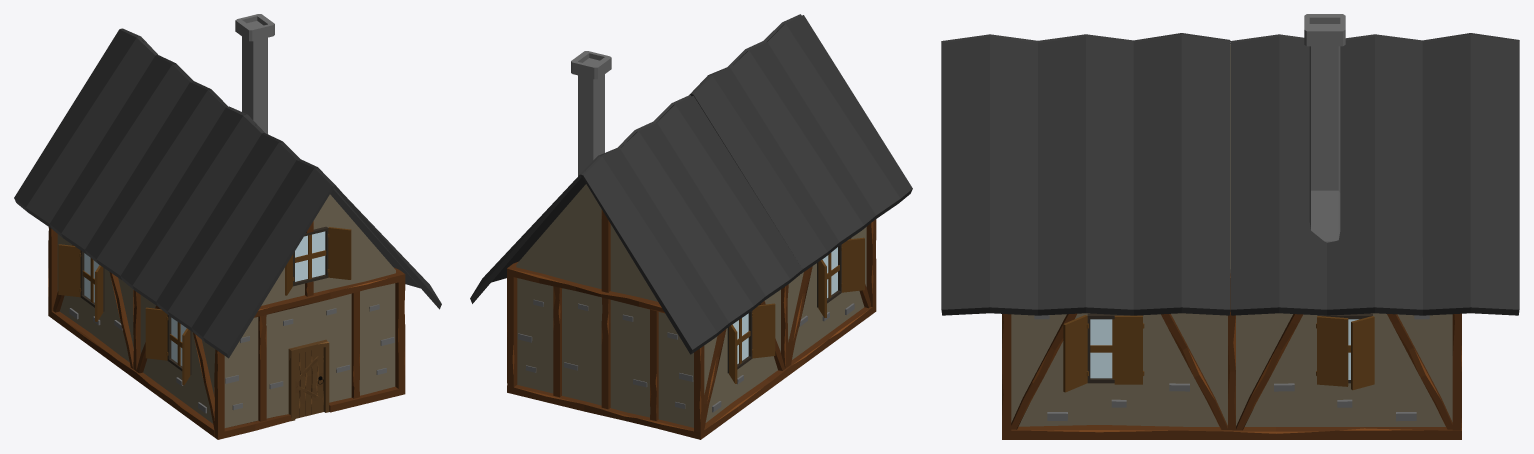
File: House_01.fbx
The picture shows the model from 3 angles, left to right: view 1: azimuth 30°, elevation 25°; view 2: azimuth 150°, elevation 25°; view 3: azimuth 270°, elevation 25°; orthographic projection. The views are drawn at different scales.
Parts seen in each view (by area): view 1: House_01_Merged; view 2: House_01_Merged; view 3: House_01_Merged.
Boxes of the visible parts, left/top/right/bottom form: House_01_Merged: left=14, top=14, right=441, bottom=439; House_01_Merged: left=470, top=14, right=912, bottom=439; House_01_Merged: left=941, top=14, right=1519, bottom=439.
Size of the model in its own units: 661 by 815 by 1074.
